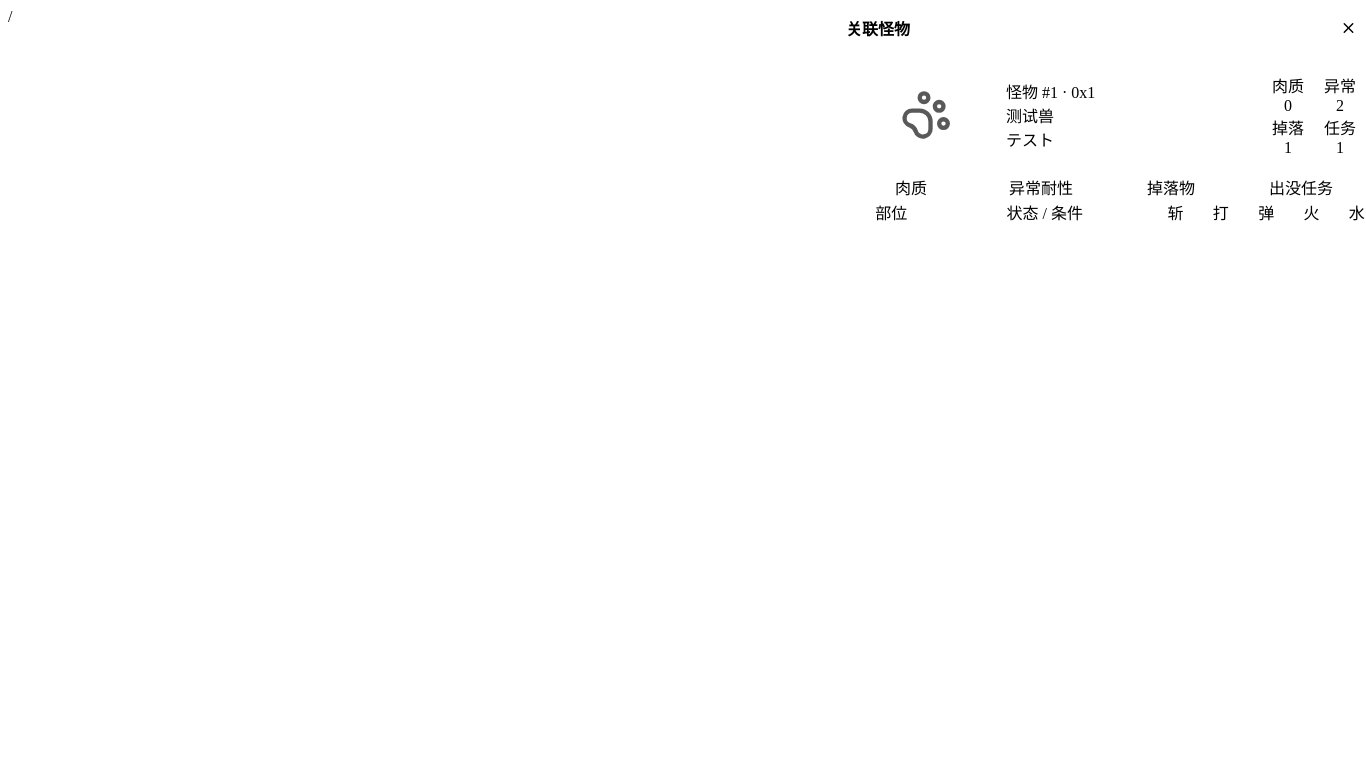
Test: P2G monster UI contracts › closes a monster drawer before navigating to an item using the native identity
The width and height of the screenshot is (1366, 768).
Expected: the heading "测试兽" is shown, [1006,108,1054,125]
Click the tab "掉落物" at (1171, 187), box [1106,174,1236,200]
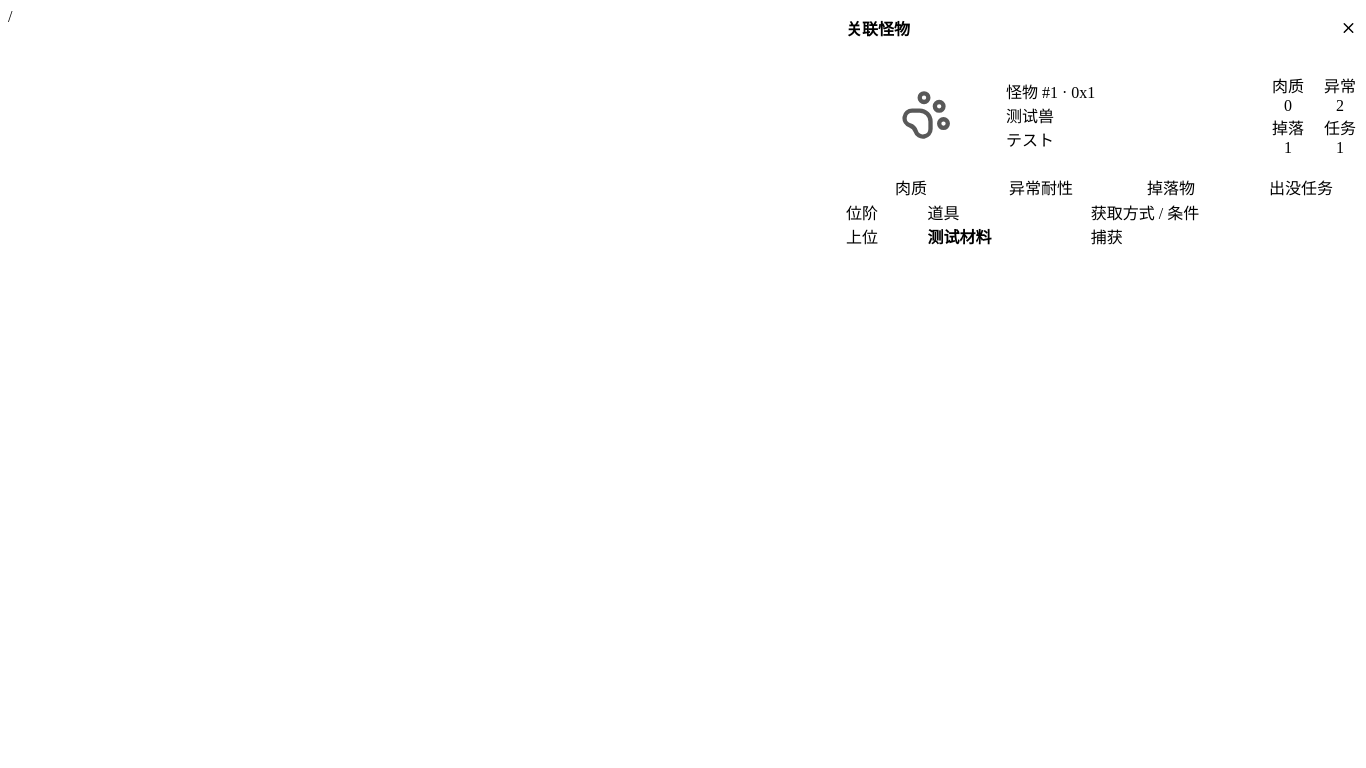
Click the button "测试材料" at (960, 236), box [928,224,992,248]
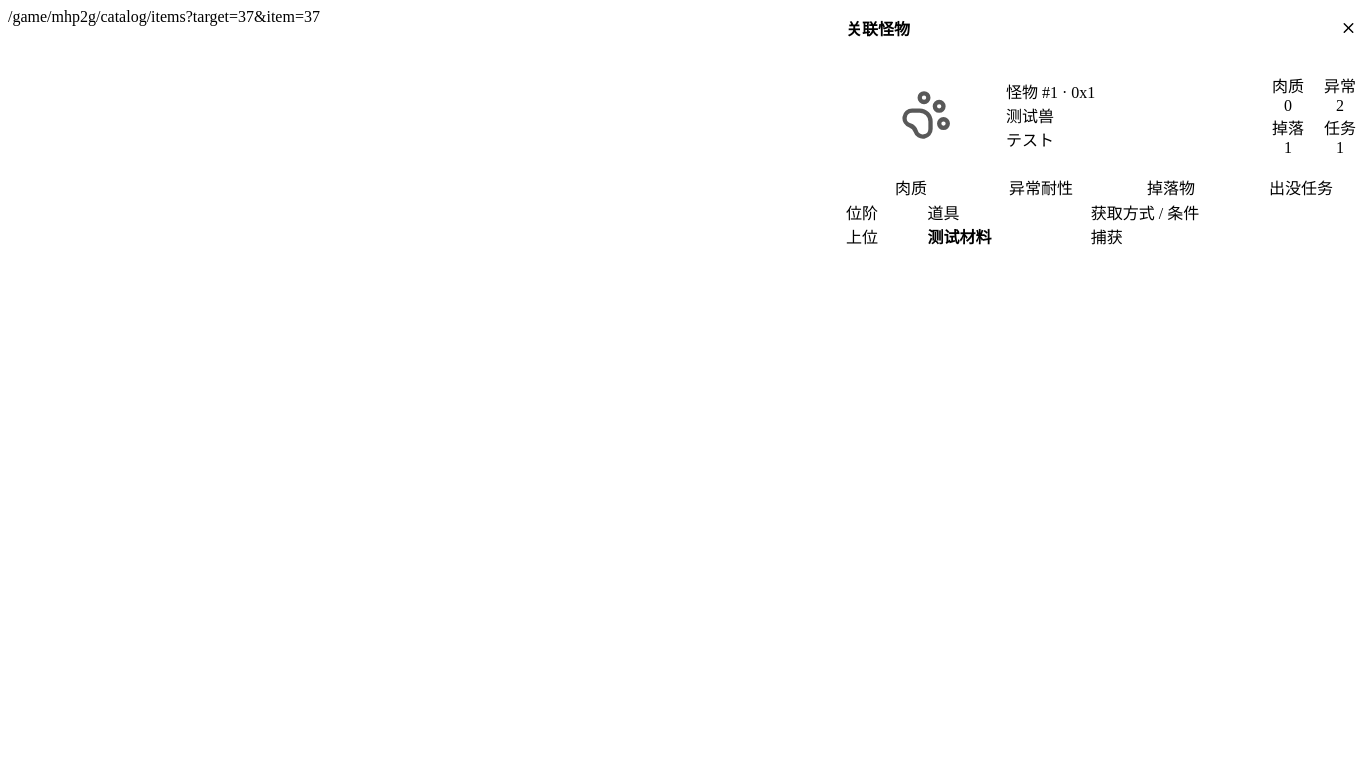
Expected: the text with test id "location" reads "/game/mhp2g/catalog/items?target=37&item=37", [8,8,320,25]
